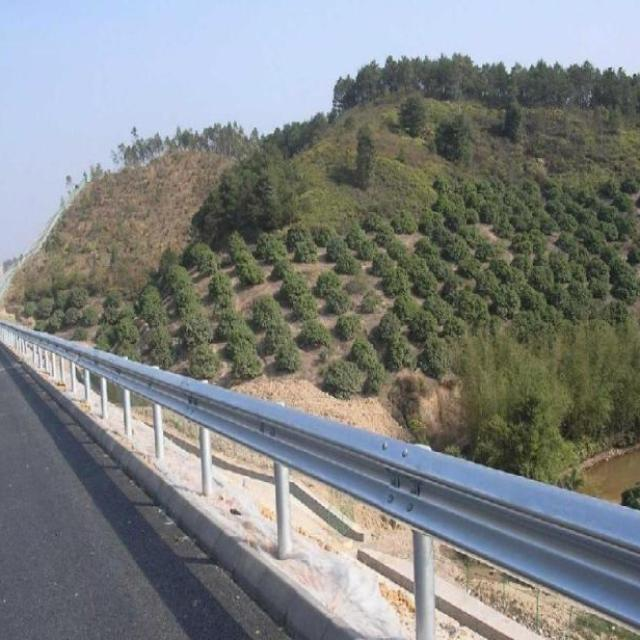Guard rail: (0, 320, 640, 628)
